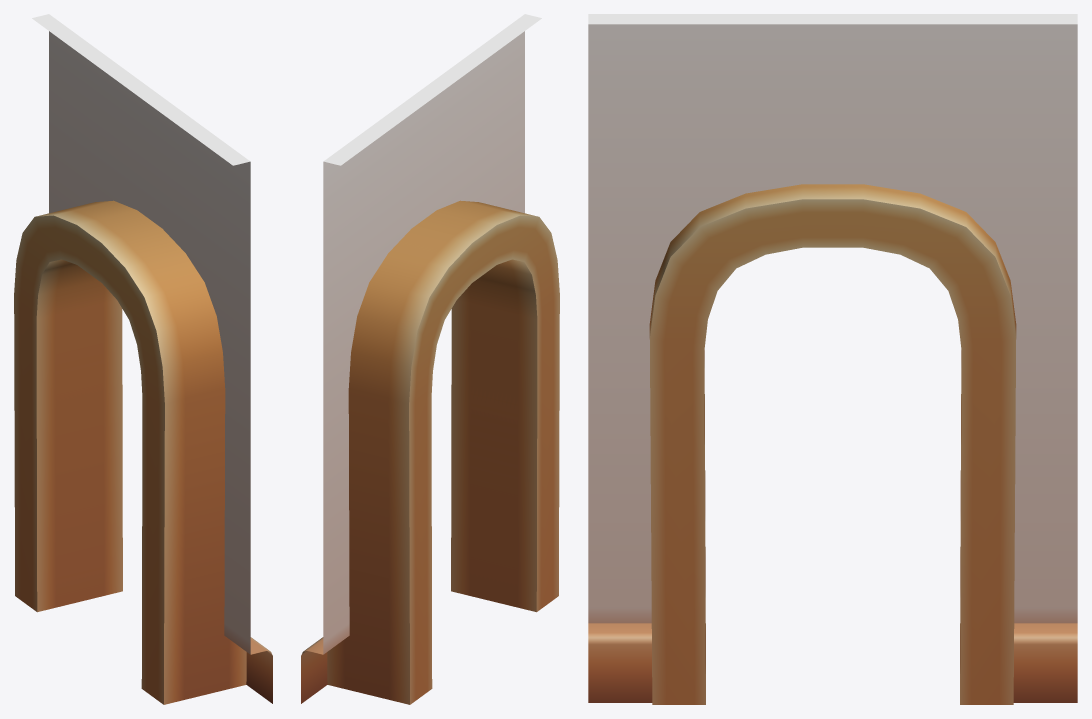
File: WhiteWall_Door.fbx
The picture shows the model from 3 angles, left to right: view 1: azimuth 30°, elevation 25°; view 2: azimuth 150°, elevation 25°; view 3: azimuth 270°, elevation 25°; orthographic projection. The views are drawn at different scales.
Visible parts, largest first — view 1: WhiteWall_Door; view 2: WhiteWall_Door; view 3: WhiteWall_Door.
Boxes of the visible parts, x1,y1,x2,y2 form: WhiteWall_Door: (14,14,272,704); WhiteWall_Door: (301,14,559,704); WhiteWall_Door: (588,14,1077,704).
Size of the model in its own units: 3 by 0.4911 by 2.
